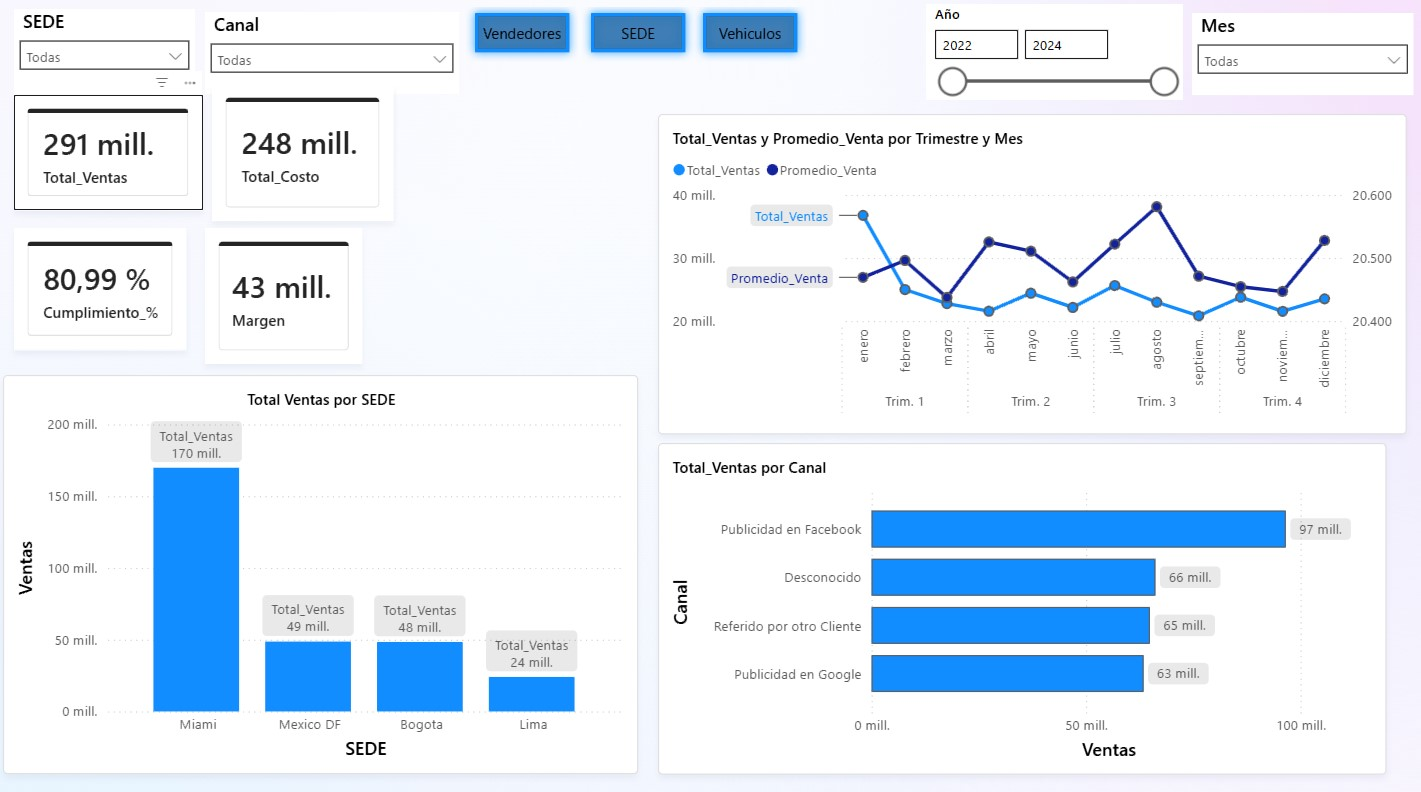

The page's visual inventory and layout, read from the dashboard file:
{"tool":"powerbi","page":{"name":"Resumen","canvas":[1280,720],"ordinal":0},"visuals":[{"type":"columnChart","title":"Total Ventas por SEDE","fields":{"Category":["SEDES.Nombre_SEDE"],"Y":["MEDIDAS.Total_Ventas"]},"box":[11.8,337.5,564.5,355.3],"z":0},{"type":"clusteredBarChart","fields":{"Category":["Canales.Canal"],"Y":["MEDIDAS.Total_Ventas"]},"box":[594.1,397.7,648.4,295.1],"z":1000},{"type":"slicer","title":"Año","fields":{"Values":["Calendario.#A o"]},"box":[832.6,7.5,227.9,84.8],"z":2000},{"type":"slicer","fields":{"Values":["Calendario.Fecha.Variación.Jerarquía de fechas.Mes"]},"box":[1069,15.1,196.9,72.5],"z":3000},{"type":"slicer","fields":{"Values":["SEDES.Nombre_SEDE"]},"box":[21.7,11.8,160.9,76],"z":4000},{"type":"lineChart","fields":{"Y":["MEDIDAS.Total_Ventas"],"Category":["Calendario.InicioMes.Variación.Jerarquía de fechas.Trimestre","Calendario.InicioMes.Variación.Jerarquía de fechas.Mes"],"Y2":["MEDIDAS.Promedio_Venta"]},"box":[594.3,105.2,665.9,285.5],"z":5000},{"type":"slicer","fields":{"Values":["Canales.Canal"]},"box":[191.5,13.8,226,73],"z":6000},{"type":"cardVisual","fields":{"Data":["MEDIDAS.Total_Ventas"]},"box":[21.7,87.8,167.8,102.6],"z":7000},{"type":"cardVisual","fields":{"Data":["MEDIDAS.Total_Costo"]},"box":[197.4,78,161.9,122.4],"z":8000},{"type":"cardVisual","fields":{"Data":["MEDIDAS.Margen"]},"box":[191.5,206.3,140.1,121.4],"z":9000},{"type":"cardVisual","fields":{"Data":["MEDIDAS.Cumplimiento_%"]},"box":[21.7,206.3,154,108.6],"z":10000},{"type":"actionButton","title":"Vendedores","box":[423.8,7.5,99.8,50.9],"z":11000},{"type":"actionButton","title":"Vendedores","box":[526.5,7.5,99.8,50.9],"z":12000},{"type":"actionButton","title":"Vendedores","box":[626.3,7.5,99.8,50.9],"z":13000}]}

Visuals, with their boxes in screenshot pixels (x1, y1, x2, y2), scaled from the page's 1280x720 canvas onto the 1421x792 screenshot:
"Total Ventas por SEDE" columnChart: bbox(13, 371, 640, 762)
clusteredBarChart - Canales.Canal x MEDIDAS.Total_Ventas: bbox(660, 437, 1379, 762)
"Año" slicer: bbox(924, 8, 1177, 102)
slicer - Calendario.Fecha.Variación.Jerarquía de fechas.Mes: bbox(1187, 17, 1405, 96)
slicer - SEDES.Nombre_SEDE: bbox(24, 13, 203, 97)
lineChart - MEDIDAS.Total_Ventas x Calendario.InicioMes.Variación.Jerarquía de fechas.Trimestre: bbox(660, 116, 1399, 430)
slicer - Canales.Canal: bbox(213, 15, 463, 95)
cardVisual - MEDIDAS.Total_Ventas: bbox(24, 97, 210, 209)
cardVisual - MEDIDAS.Total_Costo: bbox(219, 86, 399, 220)
cardVisual - MEDIDAS.Margen: bbox(213, 227, 368, 360)
cardVisual - MEDIDAS.Cumplimiento_%: bbox(24, 227, 195, 346)
"Vendedores" actionButton: bbox(470, 8, 581, 64)
"Vendedores" actionButton: bbox(584, 8, 695, 64)
"Vendedores" actionButton: bbox(695, 8, 806, 64)
